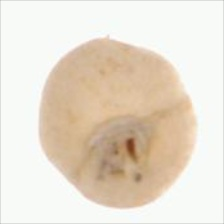L3: (93, 120, 151, 179)
L4: (39, 38, 196, 208)
